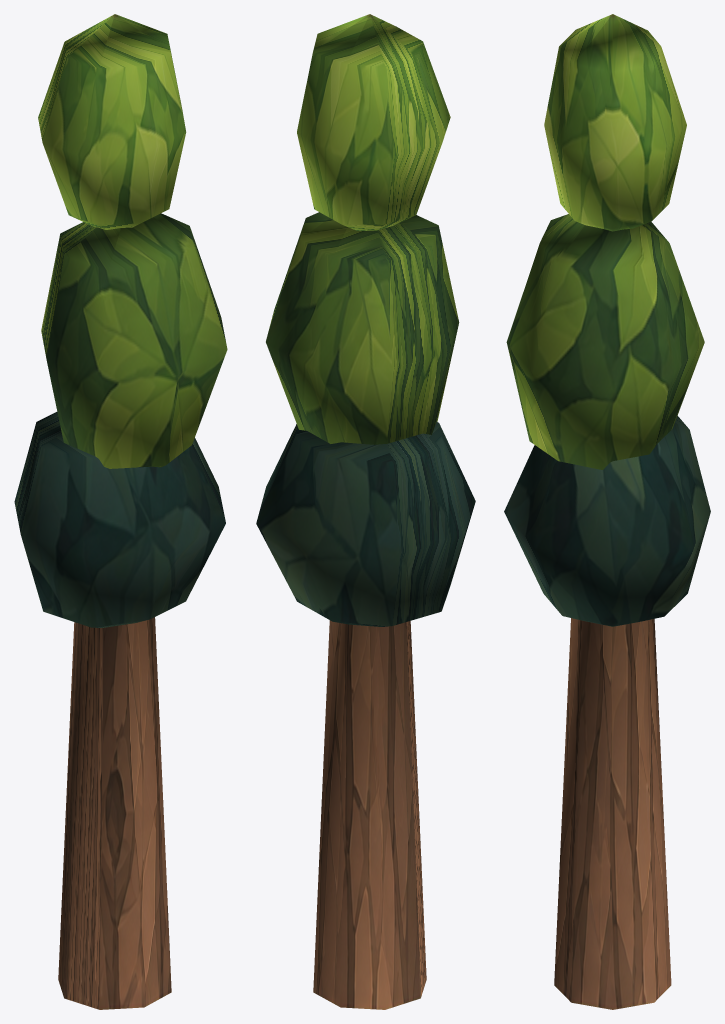
Rendered from tree_poplar_tall.obj.
3 renders of one model, left to right at view 1: azimuth 30°, elevation 25°; view 2: azimuth 150°, elevation 25°; view 3: azimuth 270°, elevation 25°, orthographic.
Parts seen in each view (by area): view 1: tree_poplar_tall; view 2: tree_poplar_tall; view 3: tree_poplar_tall.
Boxes of the visible parts, x1,y1,x2,y2 form: tree_poplar_tall: [14, 14, 227, 1009]; tree_poplar_tall: [256, 14, 475, 1009]; tree_poplar_tall: [504, 14, 710, 1009].
Size of the model in its own units: 0.4284 by 2.01 by 0.388.
4 materials, 4 textured.
